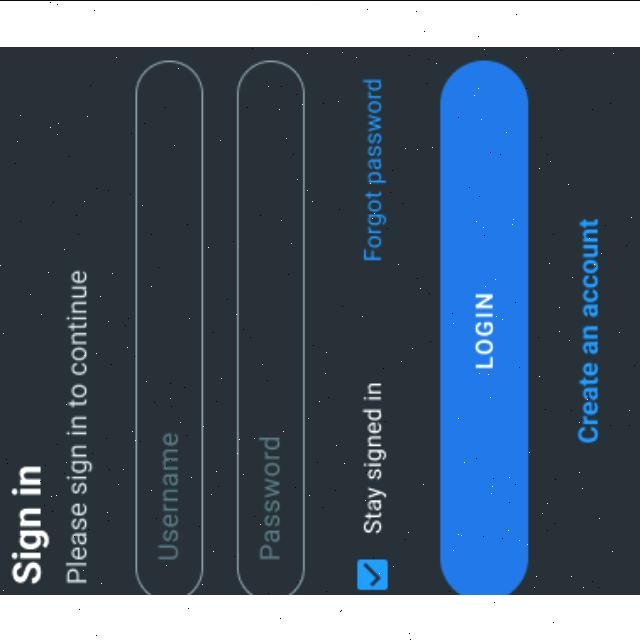QLabel: (65, 266, 93, 590), (576, 215, 600, 445), (8, 460, 48, 584), (360, 73, 386, 263), (360, 378, 388, 536), (474, 289, 494, 371)
VBtn: (438, 58, 528, 594)
VCheckbox: (356, 558, 388, 590)
VTextField: (234, 59, 306, 594), (132, 59, 204, 594)
